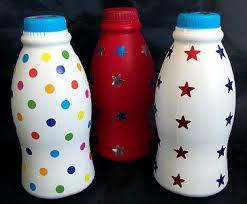Milk bottle: (8, 9, 103, 204), (152, 11, 234, 196), (84, 5, 158, 165)
